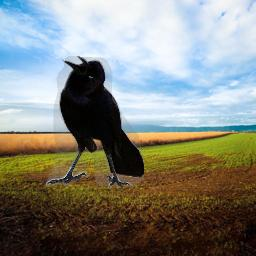Crow: (46, 56, 144, 188)
